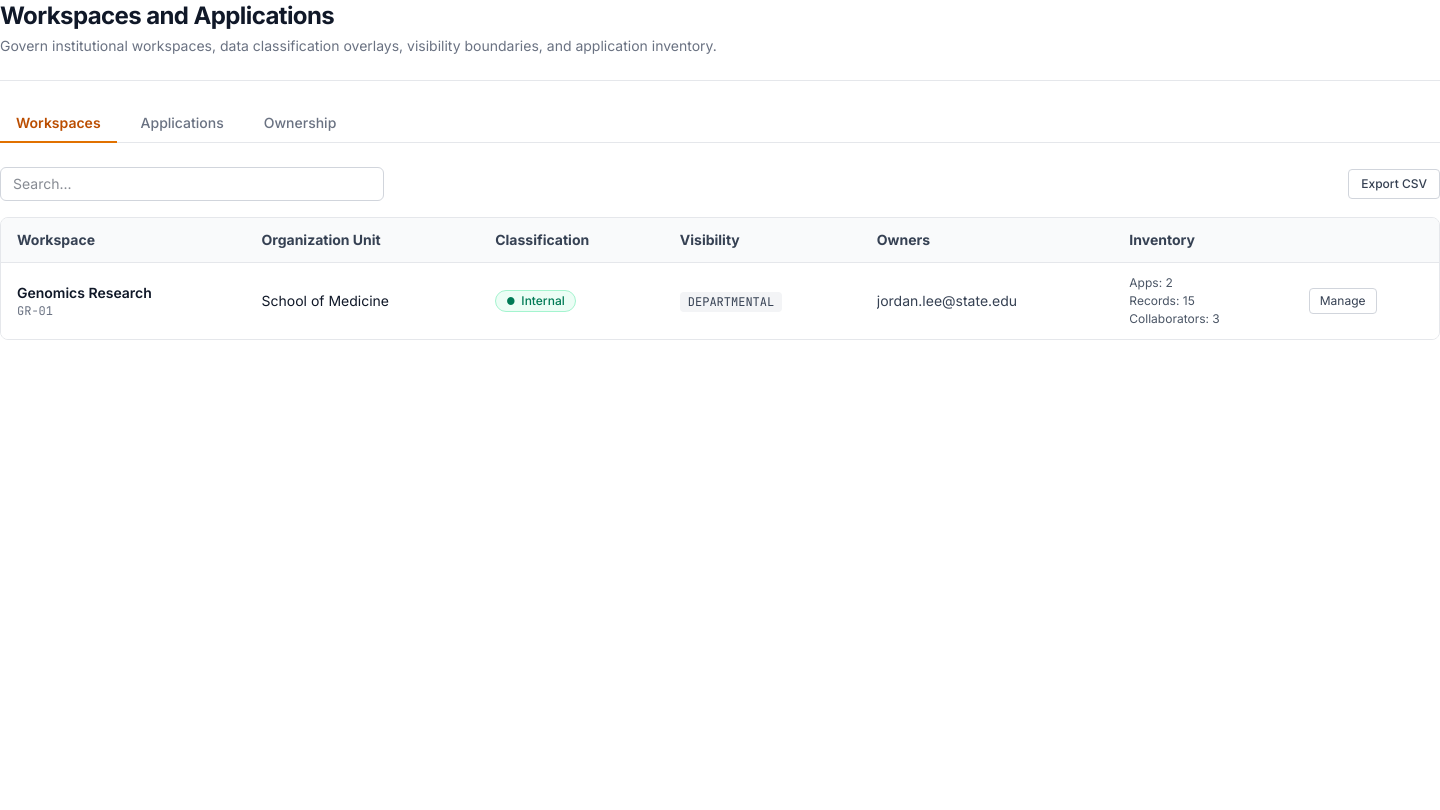
Test: Admin Workspaces & Apps Component › opens drawer admin-workspace-detail with collaborators and apps
Click the button with test id "view-workspace-ws-test-1" at (1343, 301), box top-left (1309, 288), bottom-right (1376, 314)
(page scrolled)
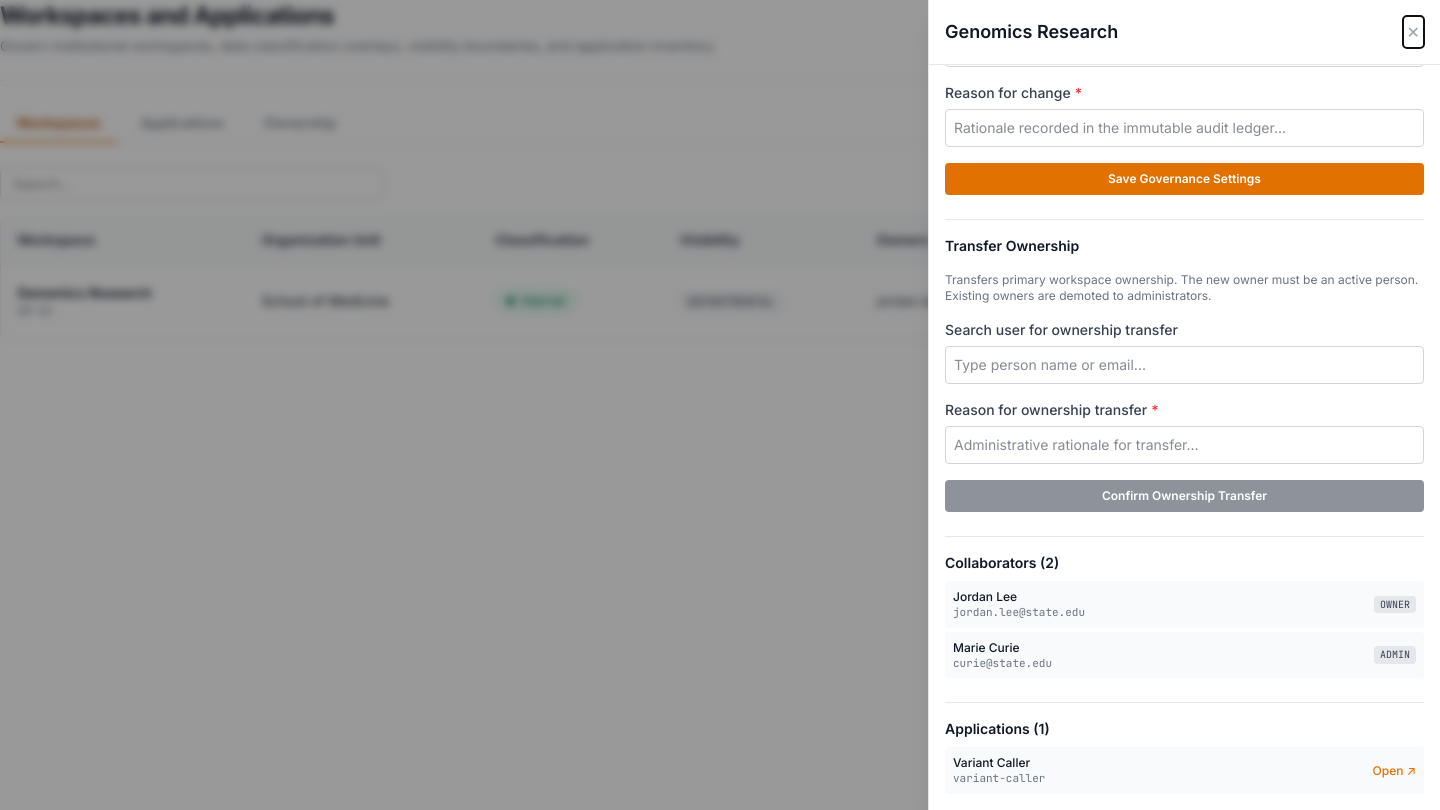
Check: the element with test id "admin-workspace-detail" is shown, box top-left (945, 65), bottom-right (1424, 794)
Check: the text "Jordan Lee" is shown, box top-left (953, 589), bottom-right (1017, 604)
Check: the text "Marie Curie" is shown, box top-left (953, 640), bottom-right (1020, 655)
